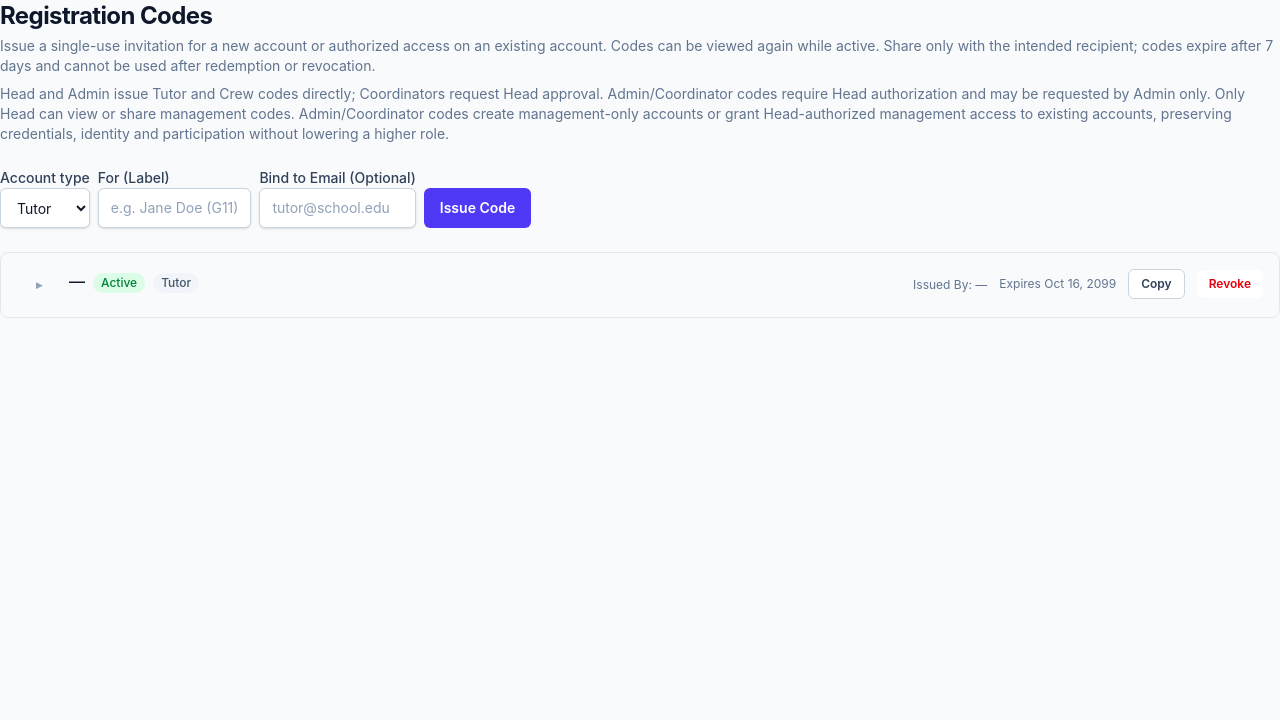
it: registration code export availability › identifies an unlabeled invitation by its tutor or stable id (null)
Click the button "Revoke".
click(1230, 284)  # box [1197,270,1263,298]
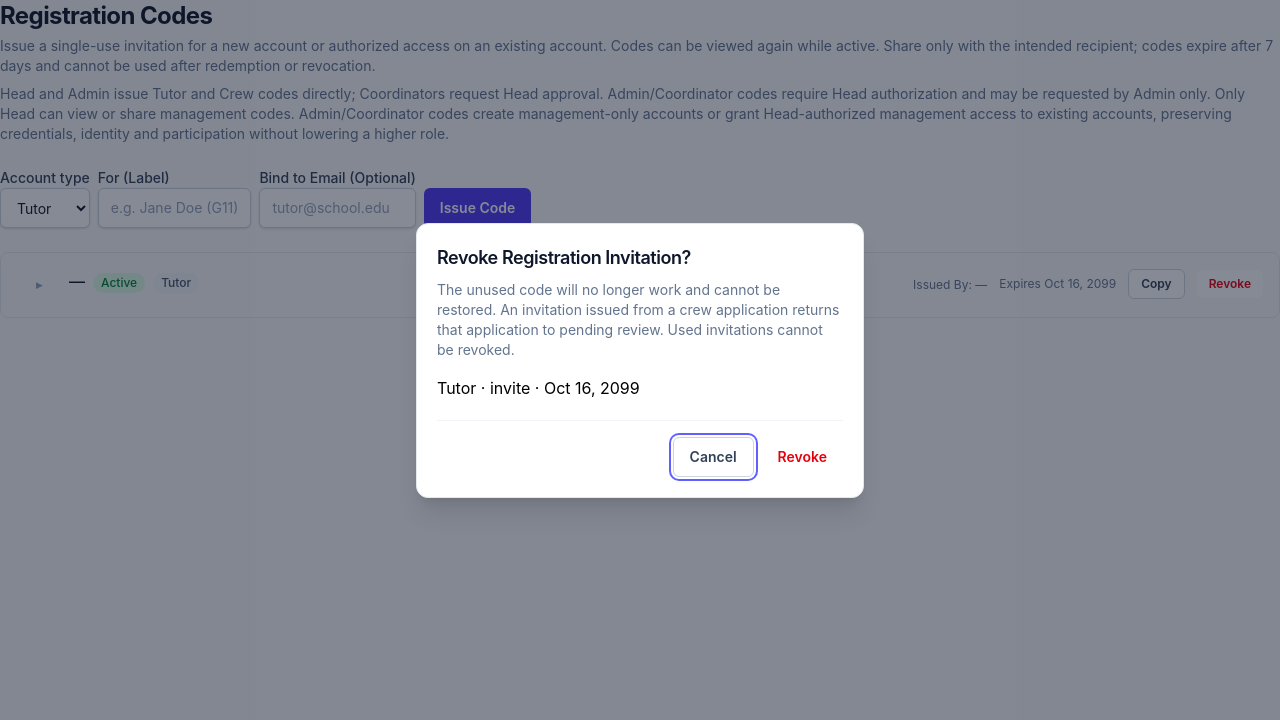
Now the dialog shows "invite", box [437,378,530,398]
